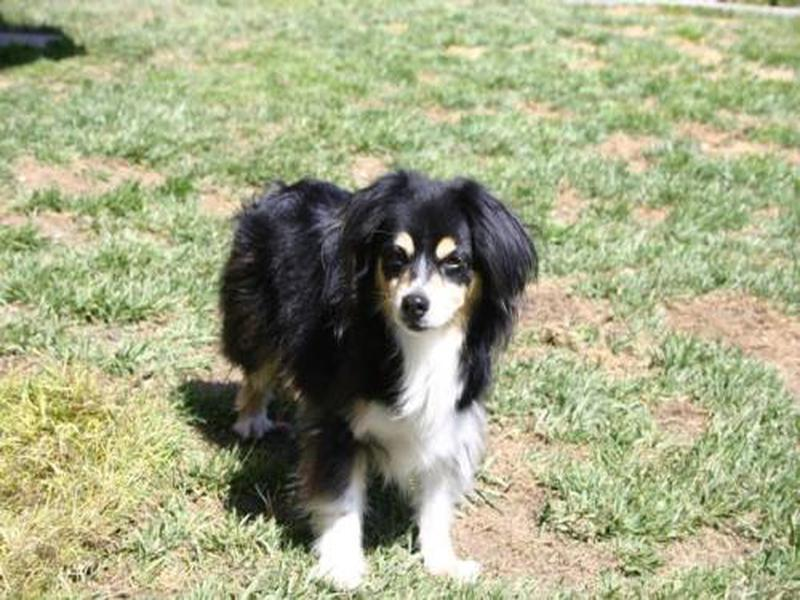dog: (208, 165, 540, 600)
